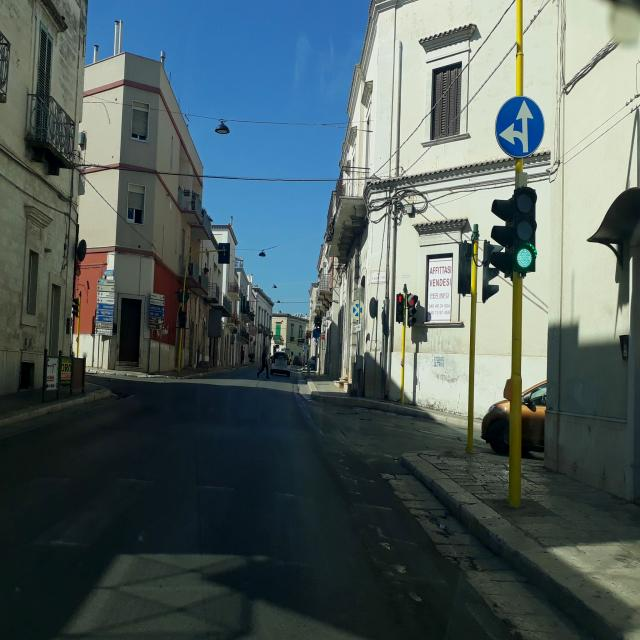car: (480, 378, 547, 454), (270, 351, 290, 377), (307, 356, 317, 372), (293, 355, 303, 366)
